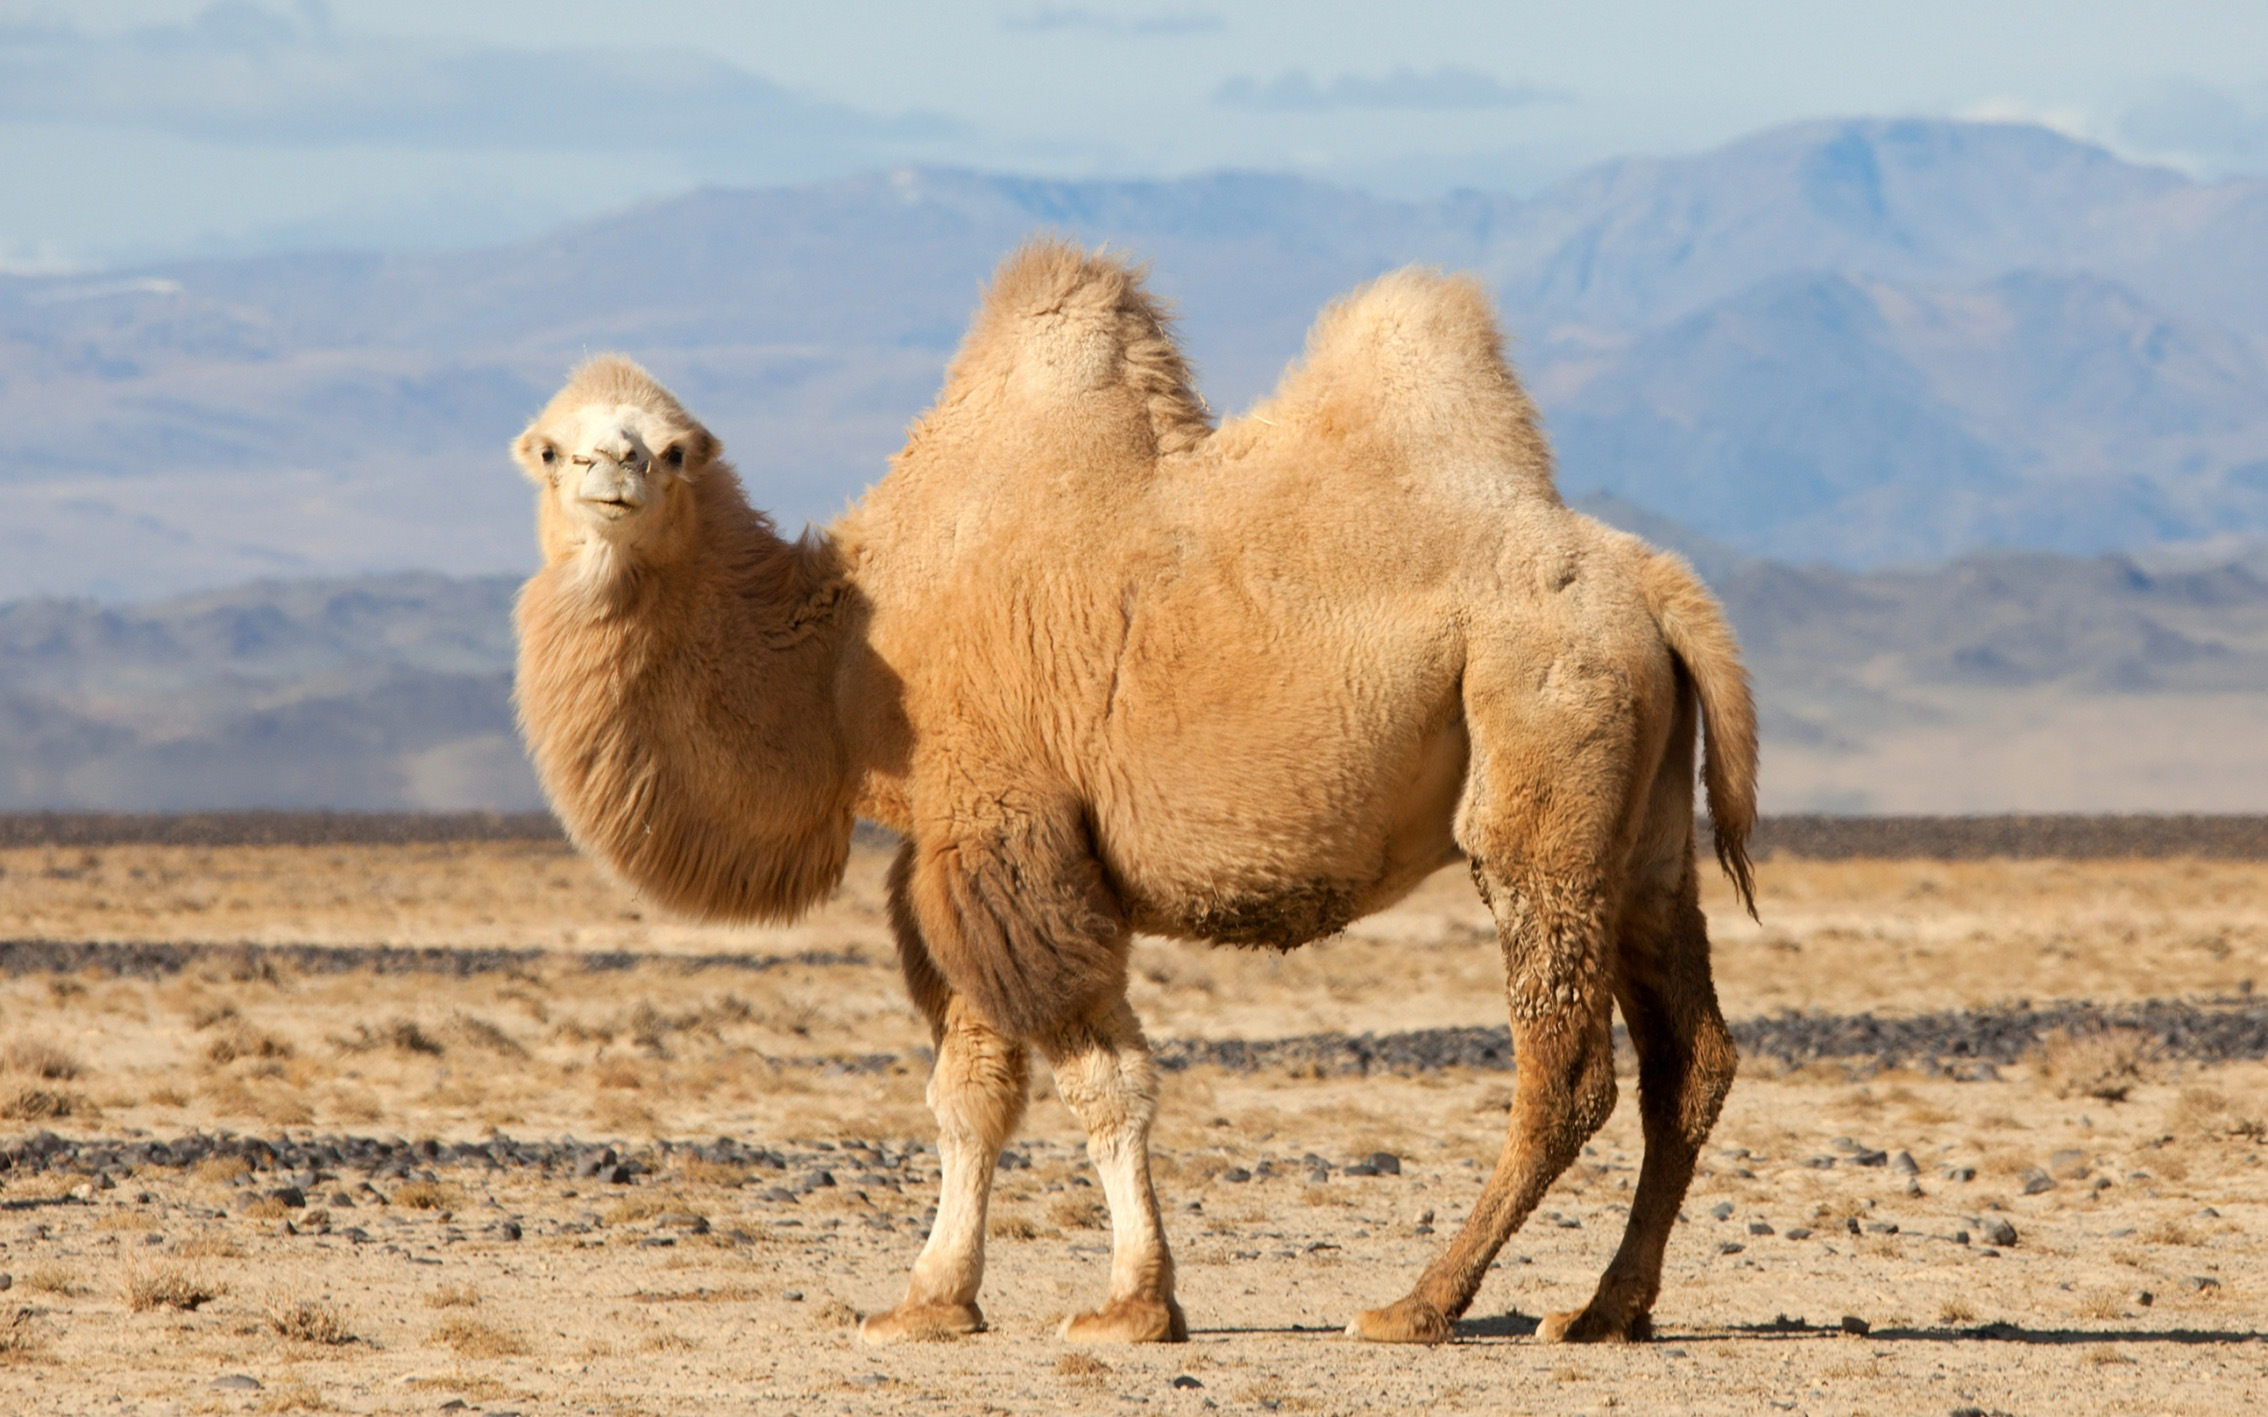camel: (509, 233, 1770, 1350)
